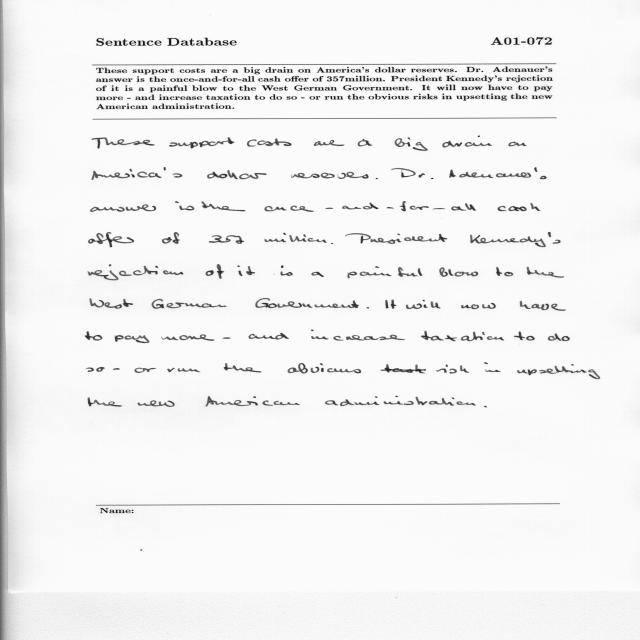word: (264, 201, 476, 212), (88, 264, 183, 280), (325, 396, 476, 406), (470, 232, 560, 247), (209, 233, 326, 244), (517, 364, 600, 379), (449, 168, 547, 180), (92, 167, 182, 180), (346, 233, 448, 244), (255, 298, 359, 308), (311, 330, 405, 341), (206, 396, 300, 407), (348, 266, 423, 279), (421, 331, 504, 341), (288, 363, 361, 374), (169, 137, 235, 149), (152, 299, 227, 309), (93, 138, 155, 149), (89, 232, 134, 247), (442, 136, 492, 147), (207, 170, 267, 179), (291, 172, 368, 179), (91, 204, 156, 212), (90, 298, 133, 309), (395, 137, 428, 151), (392, 168, 434, 179), (520, 301, 566, 311), (381, 364, 426, 374), (202, 202, 246, 212), (527, 267, 564, 278), (247, 138, 292, 147), (439, 267, 478, 277), (162, 334, 215, 341), (224, 363, 261, 373), (498, 203, 541, 211), (88, 397, 122, 407), (406, 300, 440, 309), (436, 365, 469, 374), (115, 335, 150, 343), (249, 333, 289, 340), (206, 264, 224, 279), (138, 400, 175, 407), (162, 232, 180, 244), (461, 303, 496, 309), (237, 265, 255, 276), (175, 201, 194, 211), (514, 332, 535, 341), (314, 140, 344, 146), (86, 331, 103, 341), (548, 334, 570, 341), (496, 267, 513, 276), (484, 363, 501, 372), (280, 265, 293, 276), (168, 368, 201, 372), (385, 299, 397, 309), (134, 368, 156, 373), (358, 139, 372, 146), (87, 367, 105, 372), (508, 142, 527, 146), (311, 272, 324, 277), (223, 337, 230, 339), (113, 368, 119, 370), (367, 307, 369, 309), (484, 406, 487, 407), (376, 178, 378, 179), (331, 243, 333, 244)
